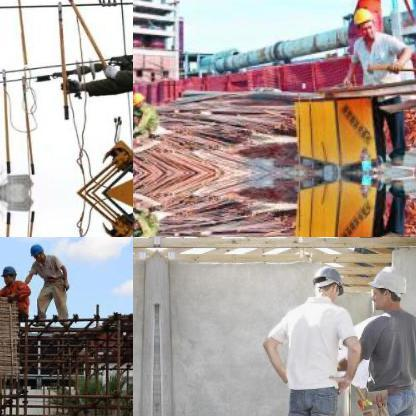Helmet: (363, 256, 411, 318), (306, 263, 348, 305), (352, 4, 376, 36), (0, 261, 19, 285), (28, 241, 46, 261), (133, 89, 145, 108)
